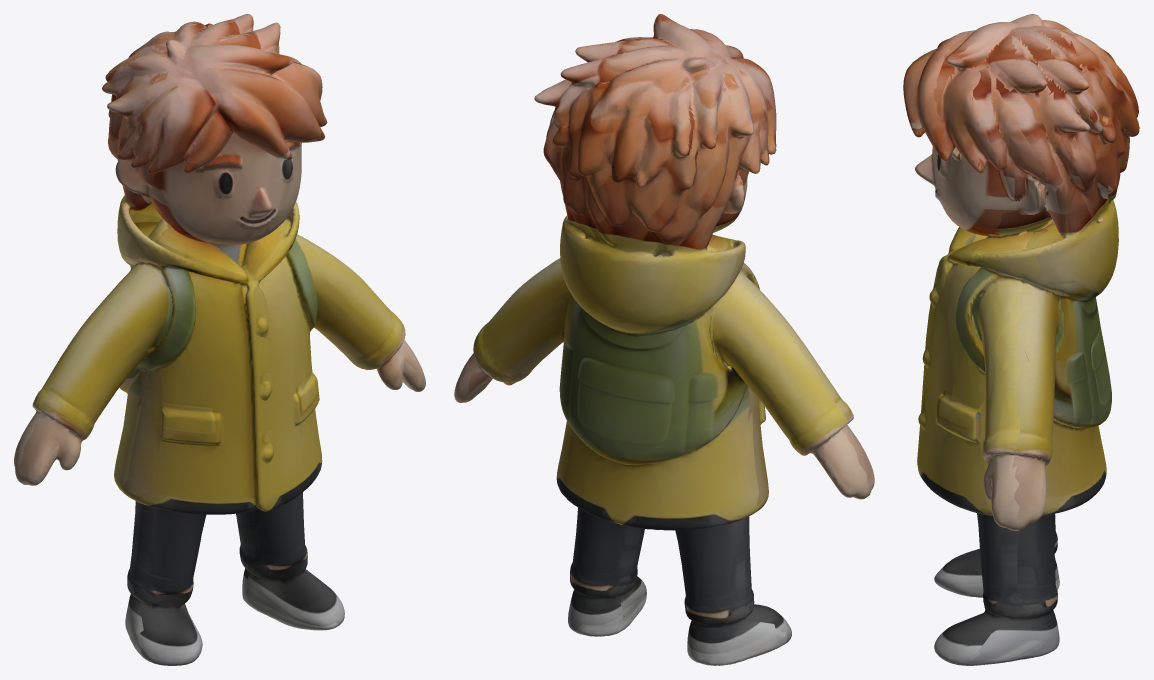
File: hero_raincoat.glb
3 views of the same model, side by side, from view 1: azimuth 30°, elevation 25°; view 2: azimuth 150°, elevation 25°; view 3: azimuth 270°, elevation 25° (orthographic). The views are drawn at different scales.
Parts seen in each view (by area): view 1: world; view 2: world; view 3: world.
Boxes of the visible parts, <box> form: world: <box>14,14,425,665</box>; world: <box>454,14,874,665</box>; world: <box>903,14,1139,665</box>.
Size of the model in its own units: 1.41 by 1.96 by 0.7141.
2 materials, 2 textured.
